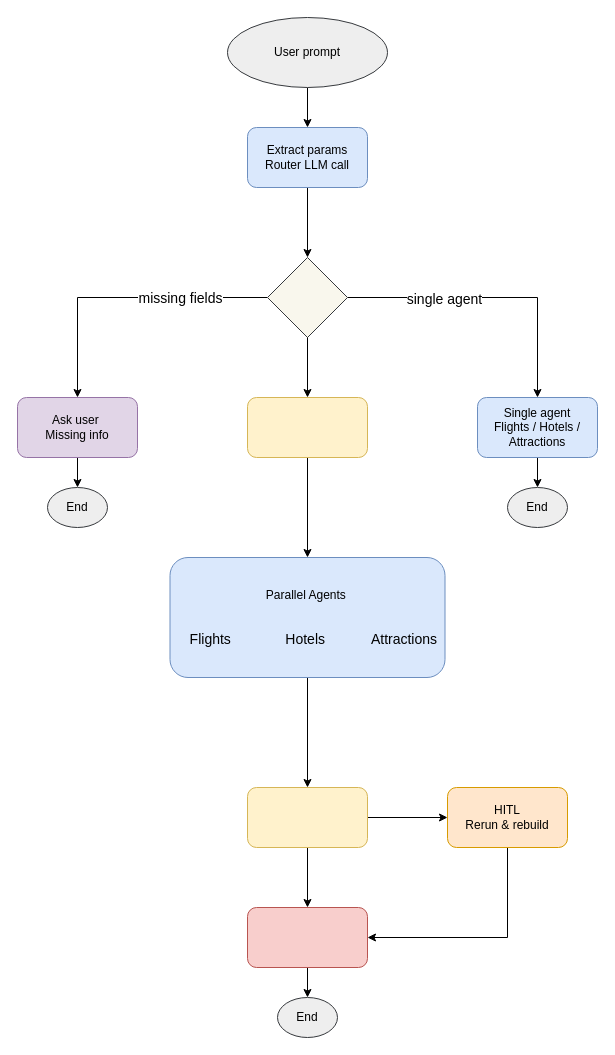
Some shapes in this 615 by 1055 pixel diagram are drawn without their labels. The centre of each missing label's shape, as x and y in pixels:
"Allocate budget per-category split" belongs at pixel 307 427.
"Build itinerary day-by-day plan" belongs at pixel 307 937.
"Check budget vs total spent" belongs at pixel 307 817.
"Route ?" belongs at pixel 307 297.
